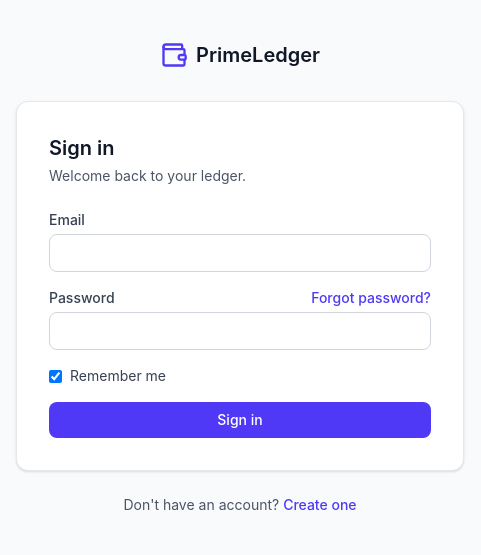
Test: SignInPage › shows a failure message that does not reveal whether the account exists
Type "ada@example.com" into the field labelled "Email".
click(240, 253); type("ada@example.com")  # box 49,234 -> 431,272
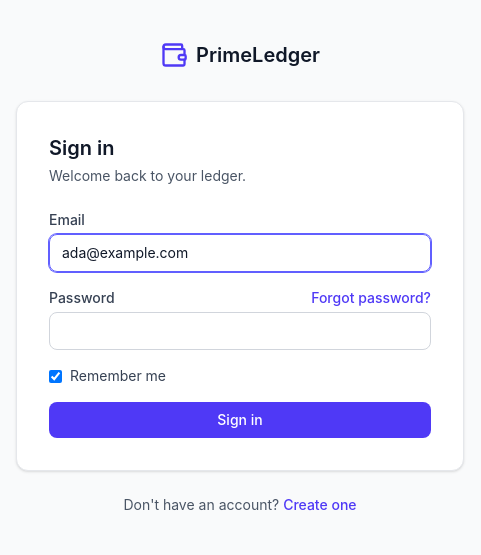
Type "wrong-password" into the password field labelled "Password".
click(240, 331); type("wrong-password")  # box 49,312 -> 431,350
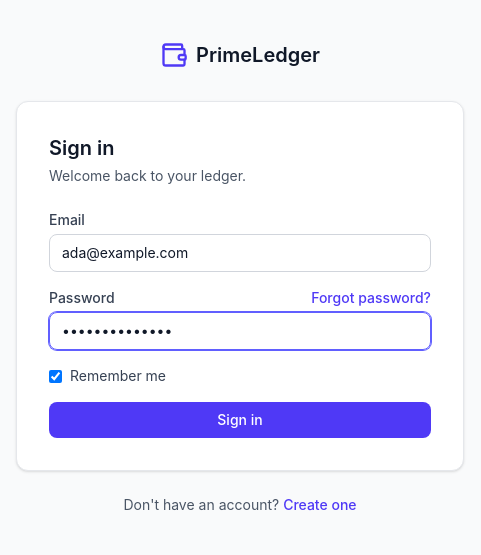
Click the button "Sign in".
click(240, 420)  # box 49,402 -> 431,438
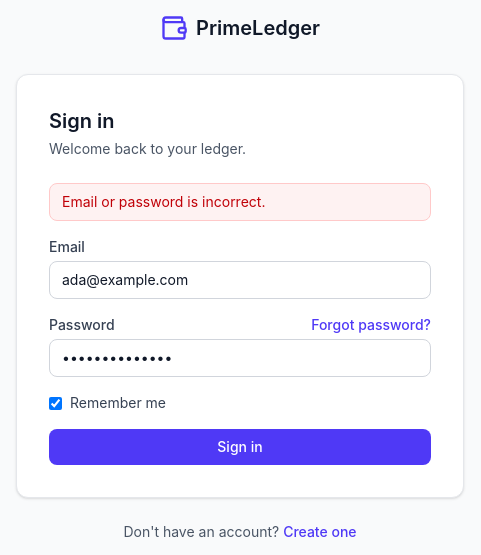
Now the message shows "Email or password is incorrect", box 62,193 -> 265,210
